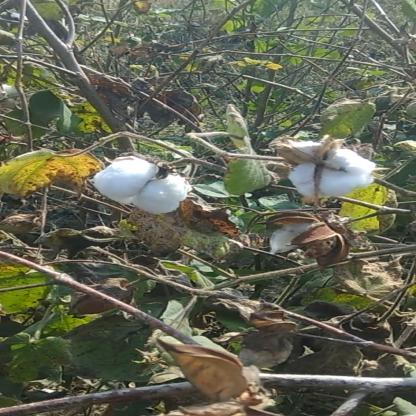cotton_ready: (78, 154, 212, 218), (258, 136, 380, 204)
